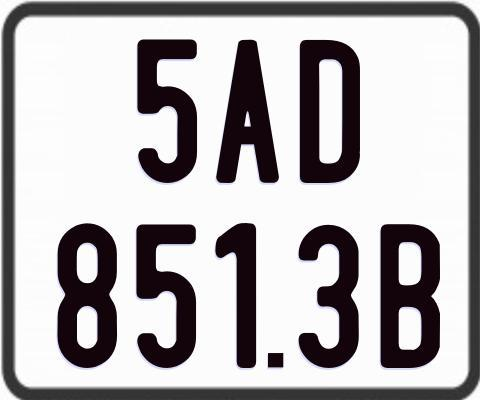1: (212, 222, 259, 367)
3: (298, 223, 361, 368)
5: (135, 221, 195, 371), (134, 39, 194, 183)
8: (57, 220, 117, 365)
A: (214, 39, 278, 185)
B: (378, 222, 441, 371)
D: (299, 40, 360, 186)
